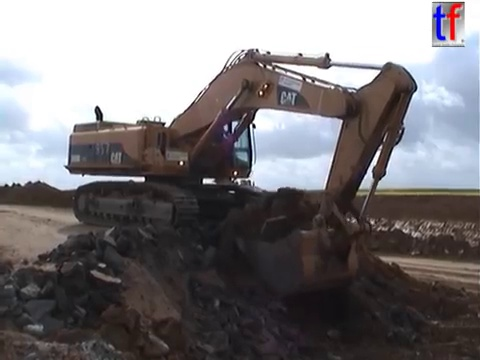excavator: (61, 45, 421, 297)
